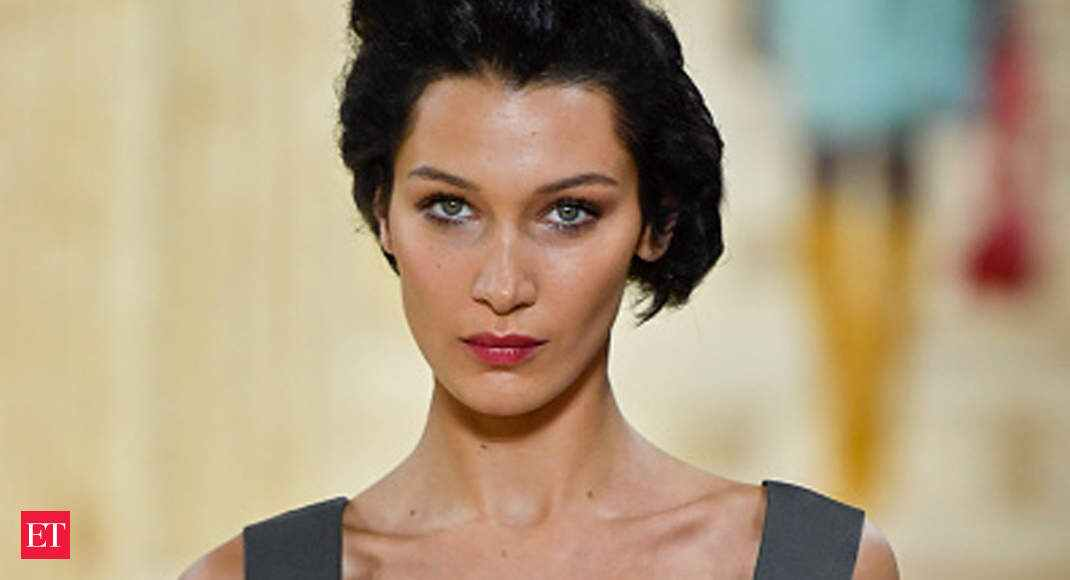Without Helmet: (327, 1, 731, 430)
